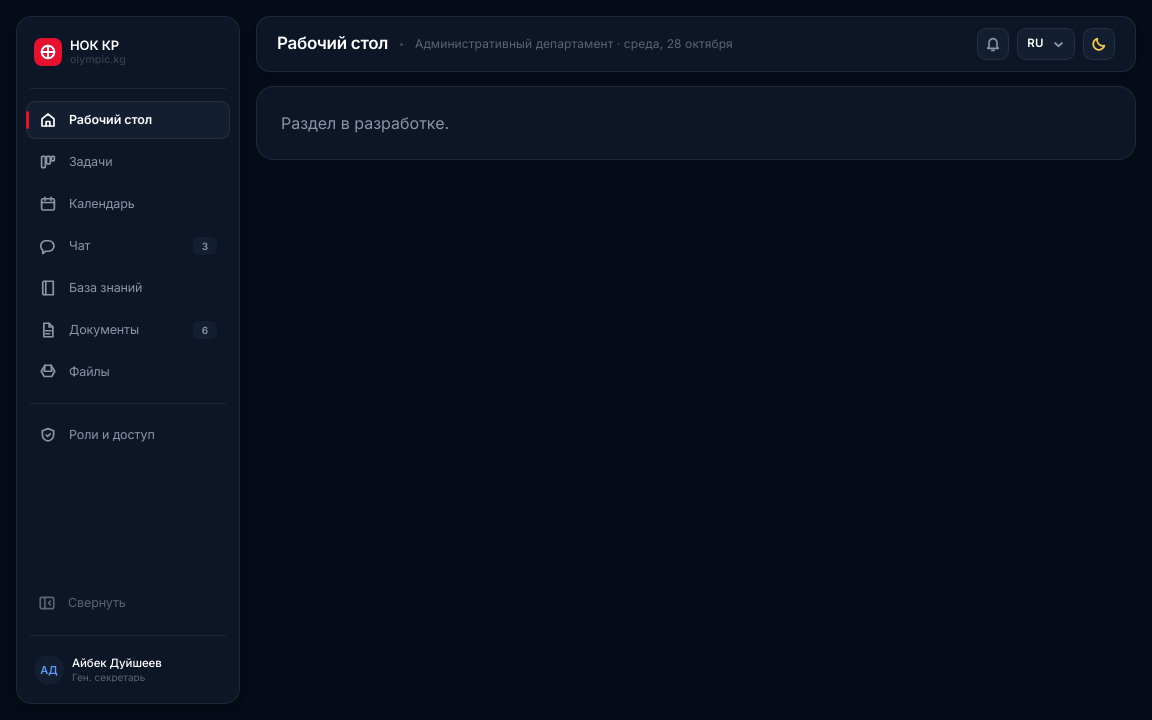
Test case: каркас приложения › меню сворачивается: названия скрыты, остаются иконки с подписью для чтения с экрана
Step 1. Click the button "Свернуть" → (128, 603), box [26, 583, 230, 623]
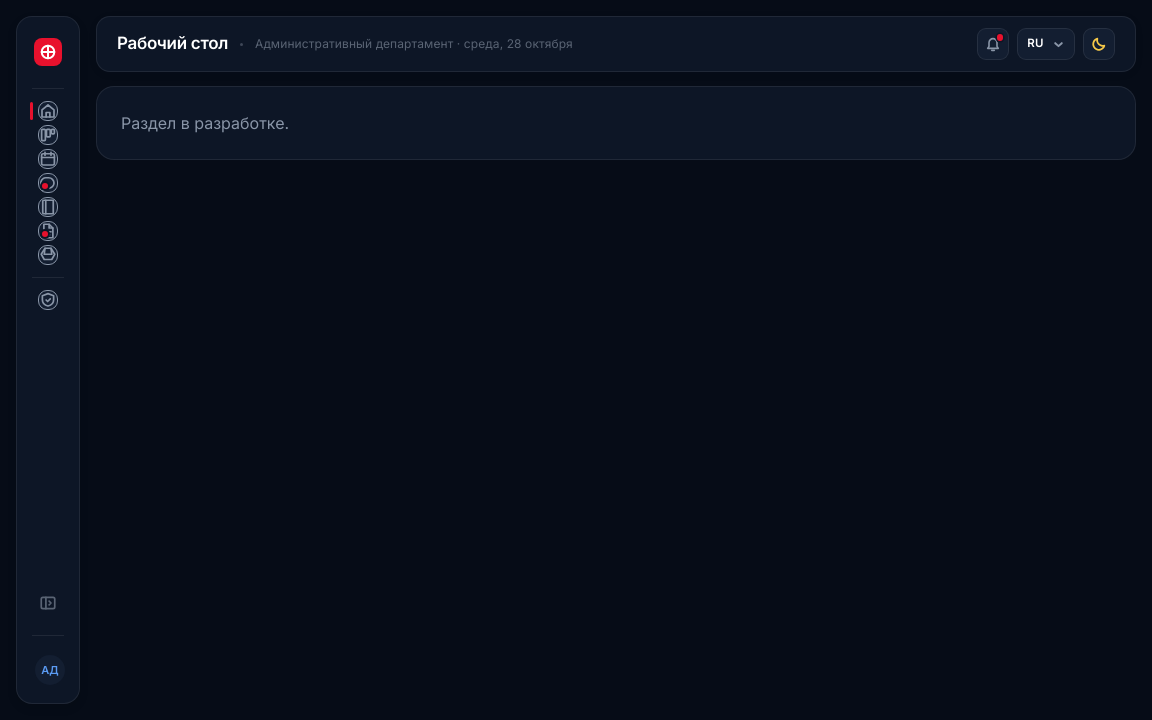
Expected: the text "Свернуть" is gone
Expected: the link named "Задачи" is shown, [38, 125, 58, 145]
